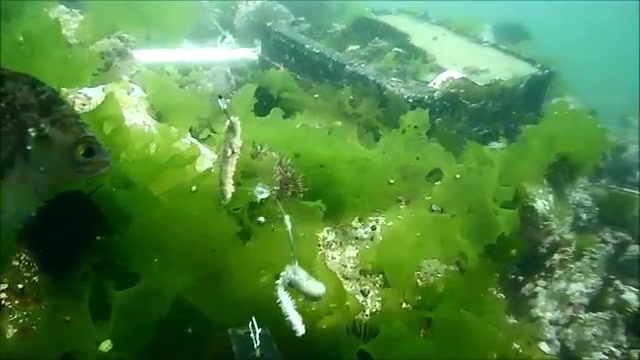mebaru: (1, 64, 118, 192)
